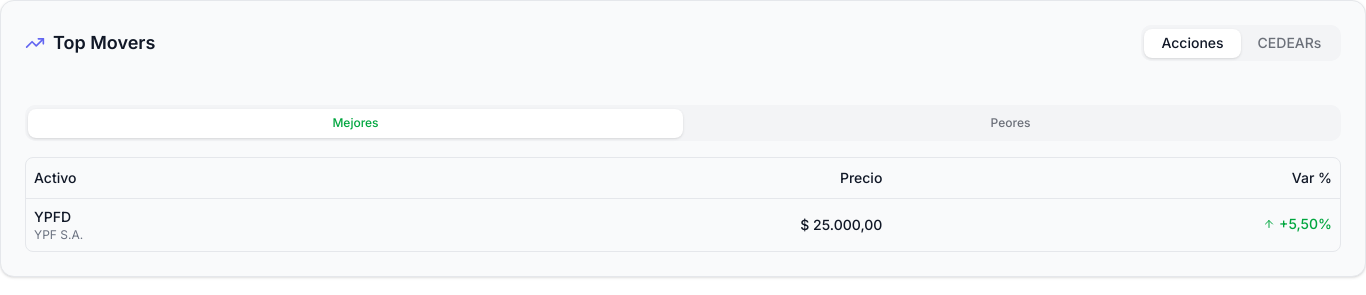
Test: TopMoversTable › switches to cedears when clicking CEDEARs tab
Click the tab "CEDEARs".
click(1290, 43)  # box [1241,28,1338,58]
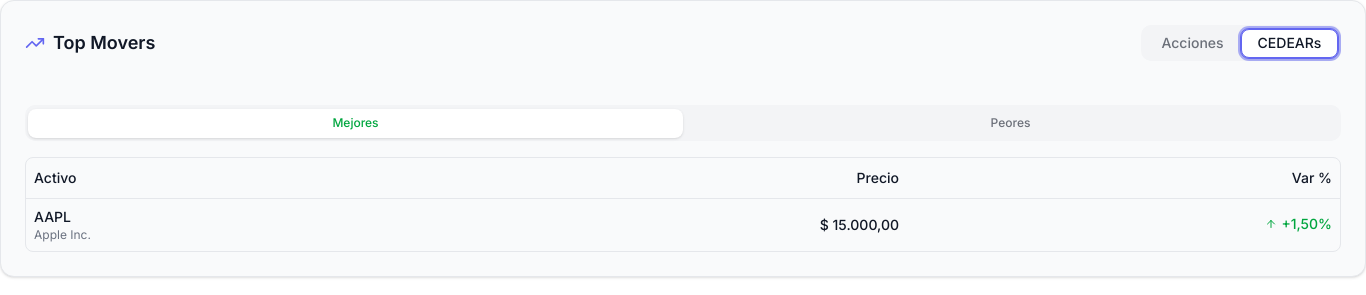
Now the text "Apple Inc." is shown, box [34,226,91,242]
Now the link "YPF S.A." is gone
